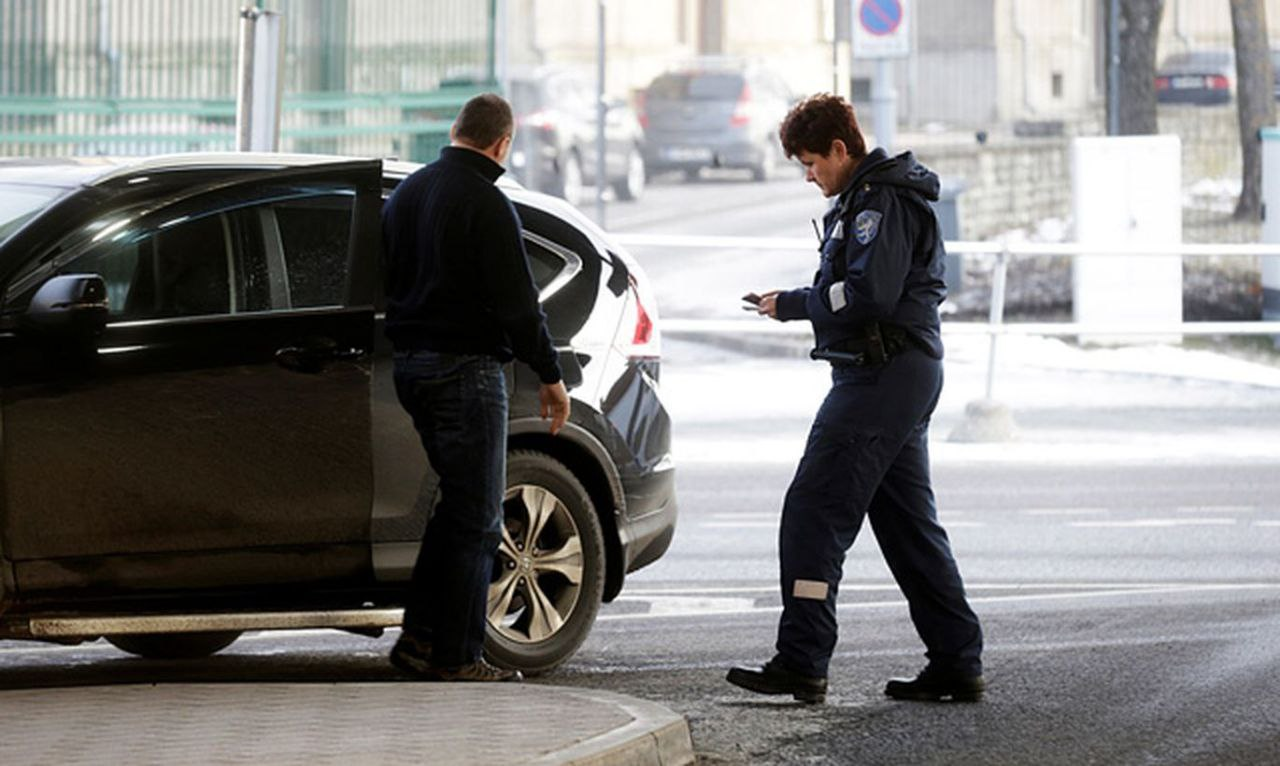sombie: (714, 71, 1003, 733)
